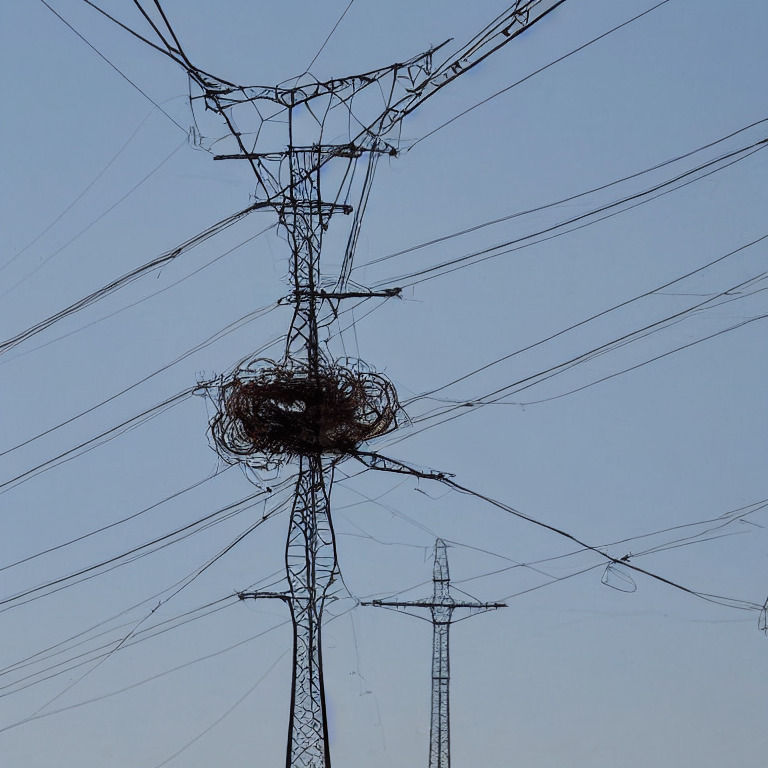nest: (221, 366, 398, 455)
